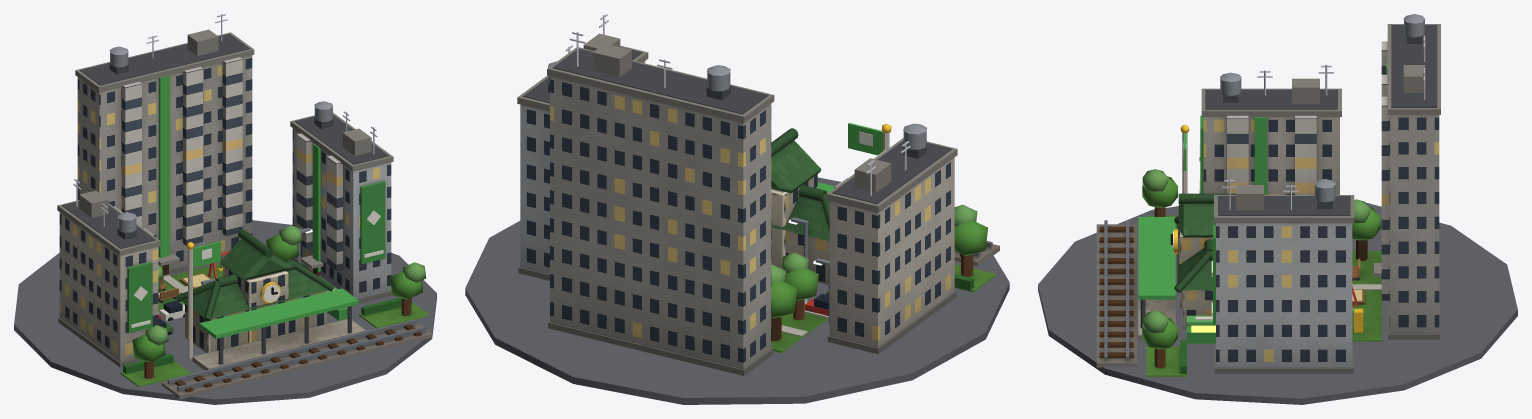
The model's file is city_dl6_green.glb.
3 renders of one model, left to right at view 1: azimuth 30°, elevation 25°; view 2: azimuth 150°, elevation 25°; view 3: azimuth 270°, elevation 25°, orthographic. The views are drawn at different scales.
Visible parts, largest first — view 1: city_dl6_green; view 2: city_dl6_green; view 3: city_dl6_green.
Part boxes in pixels (bbox=[...]): city_dl6_green: bbox=[14, 14, 436, 404]; city_dl6_green: bbox=[465, 14, 1009, 404]; city_dl6_green: bbox=[1038, 14, 1517, 404].
Size of the model in its own units: 1.55 by 0.952 by 1.55.
3 materials, 1 textured.
